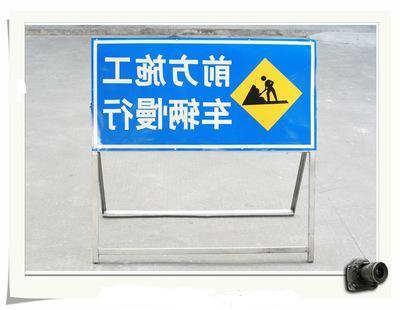sign: (90, 36, 315, 149)
